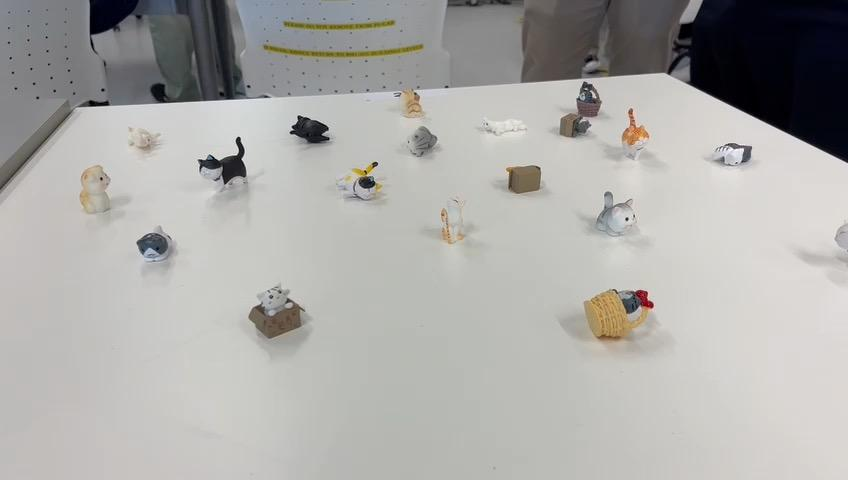pet: (581, 276, 661, 382), (173, 141, 267, 223), (63, 144, 134, 238), (233, 279, 314, 361), (408, 196, 480, 274), (701, 121, 764, 203), (111, 111, 172, 193), (498, 154, 570, 217), (286, 91, 352, 158), (338, 154, 401, 224), (593, 186, 658, 250), (133, 206, 184, 285), (616, 104, 673, 170), (386, 79, 446, 131), (471, 99, 537, 144), (553, 104, 593, 156), (406, 129, 455, 170)
